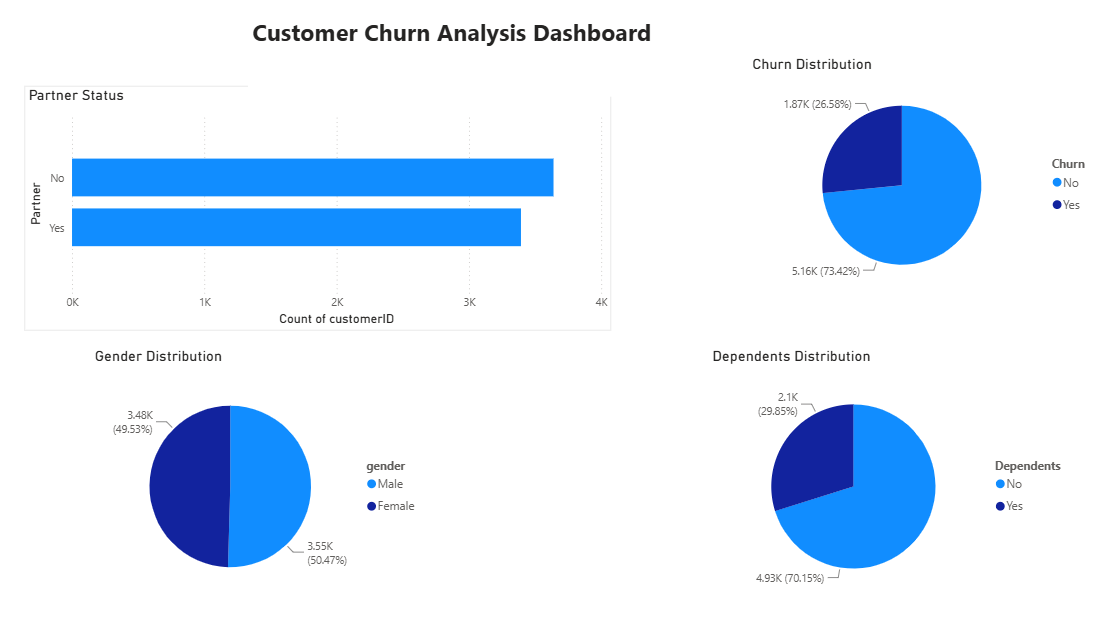

Layout of this report page (visuals, bound fields, positions):
{"tool":"powerbi","page":{"name":"Customer Demographics","canvas":[1280,720],"ordinal":0},"visuals":[{"type":"clusteredBarChart","title":" Partner Status","fields":{"Category":["Telco_Customer_Churn_Dataset  (2).Partner"],"Y":["CountNonNull(Telco_Customer_Churn_Dataset  (2).customerID)"]},"box":[30,101.7,671.7,280],"z":0},{"type":"pieChart","title":"Gender Distribution","fields":{"Category":["Telco_Customer_Churn_Dataset  (2).gender"],"Y":["CountNonNull(Telco_Customer_Churn_Dataset  (2).gender)"]},"box":[105,400,385,300],"z":1},{"type":"pieChart","title":"Dependents Distribution","fields":{"Category":["Telco_Customer_Churn_Dataset  (2).Dependents"],"Y":["CountNonNull(Telco_Customer_Churn_Dataset  (2).customerID)"]},"box":[811.7,400,426.7,300],"z":2},{"type":"pieChart","title":"Churn Distribution","fields":{"Category":["Telco_Customer_Churn_Dataset  (2).Churn"],"Y":["CountNonNull(Telco_Customer_Churn_Dataset  (2).customerID)"]},"box":[856.7,65,410,280],"z":3},{"type":"textbox","box":[285,16.7,505,96.7],"z":5}]}

Visuals, with their boxes in screenshot pixels (x1, y1, x2, y2), scaled from the page's 1280x720 canvas onto the 1116x617 screenshot:
" Partner Status" clusteredBarChart: 26 87 612 327
"Gender Distribution" pieChart: 92 343 427 600
"Dependents Distribution" pieChart: 708 343 1080 600
"Churn Distribution" pieChart: 747 56 1104 296
textbox: 248 14 689 97
